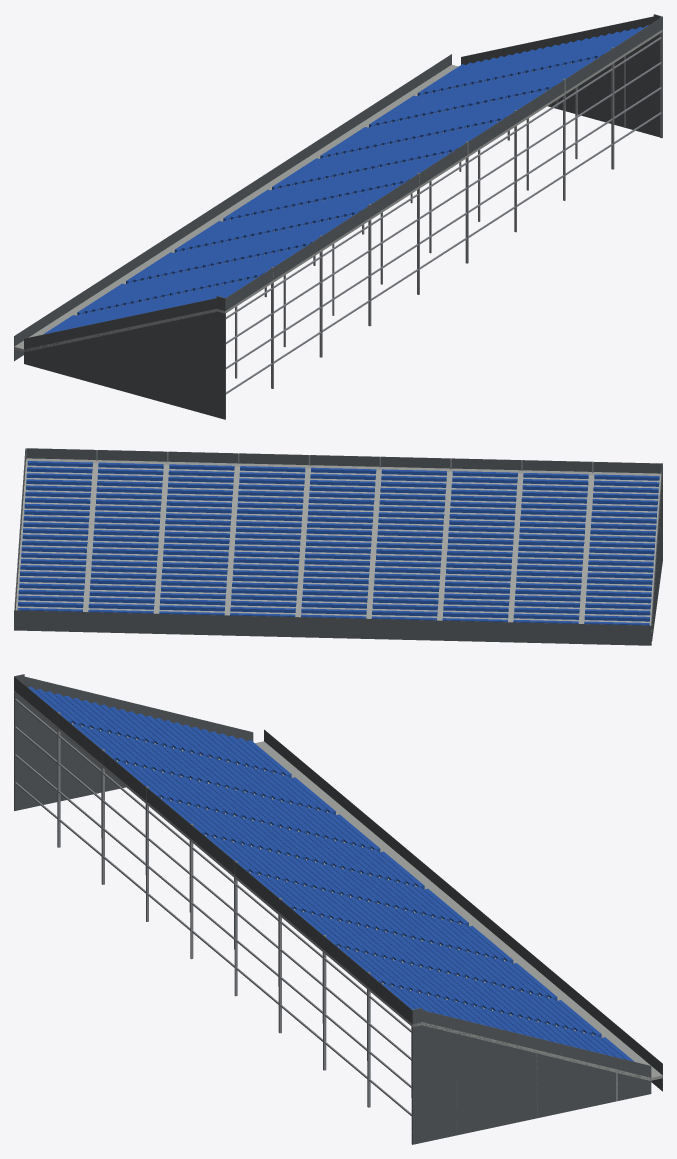
Rendered from zan_stand_eastside_2.glb.
3 renders of one model, top to bottom at view 1: azimuth 30°, elevation 25°; view 2: azimuth 150°, elevation 25°; view 3: azimuth 270°, elevation 25°, orthographic. The views are drawn at different scales.
Visible parts, largest first — view 1: zandvoort-eastside-2; view 2: zandvoort-eastside-2; view 3: zandvoort-eastside-2.
Boxes of the visible parts, x1,y1,x2,y2 form: zandvoort-eastside-2: (14, 14, 662, 419); zandvoort-eastside-2: (14, 448, 662, 645); zandvoort-eastside-2: (14, 674, 662, 1144).
Bounding box in the file's own units: 71.69 × 11.6 × 50.74.
